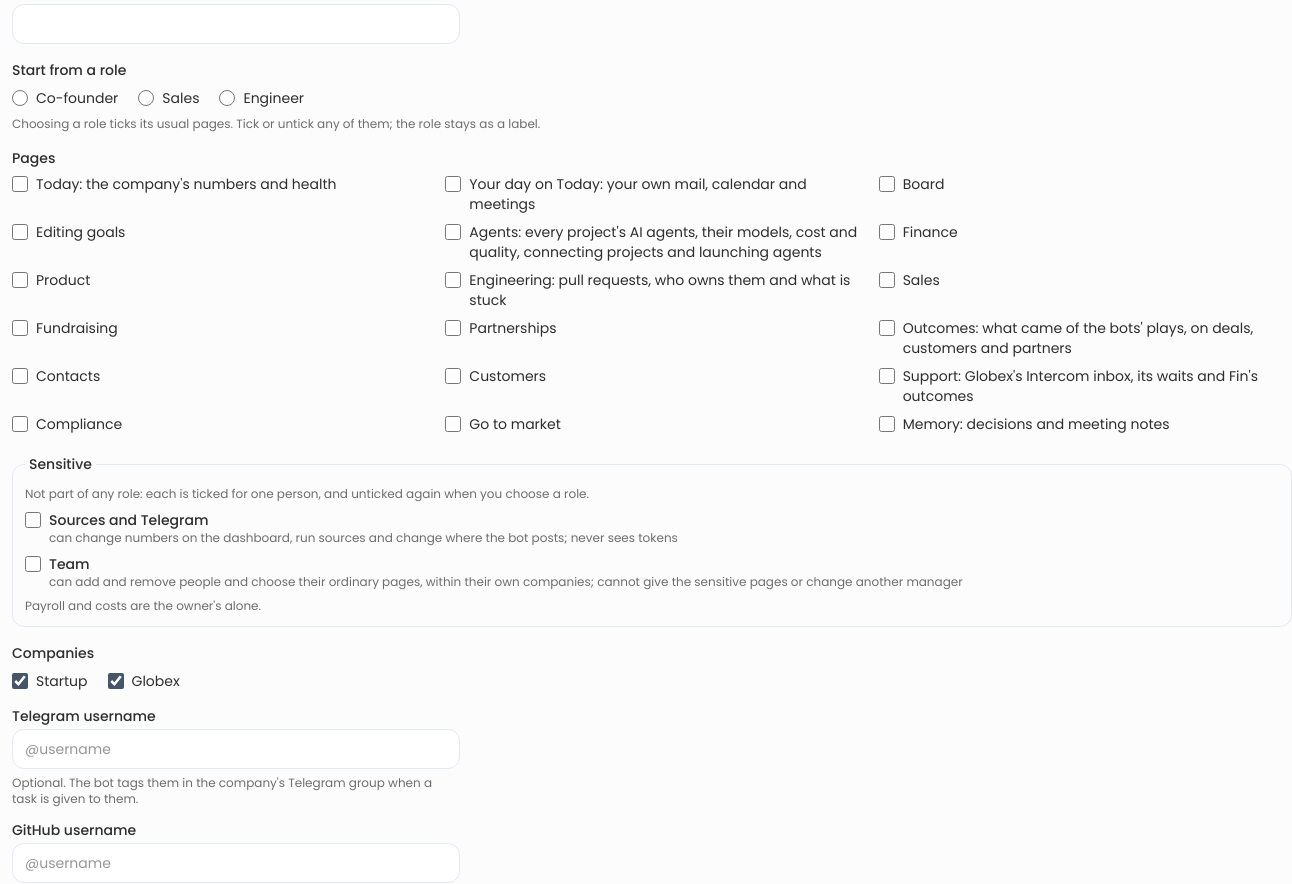
Test case: AddTeammate › sends the email, role, companies and pages, then clears and returns to the email field
Step 1. Type "new.person@example.com" into the field labelled "Google account email" → (236, 24), box [12,4,460,44]
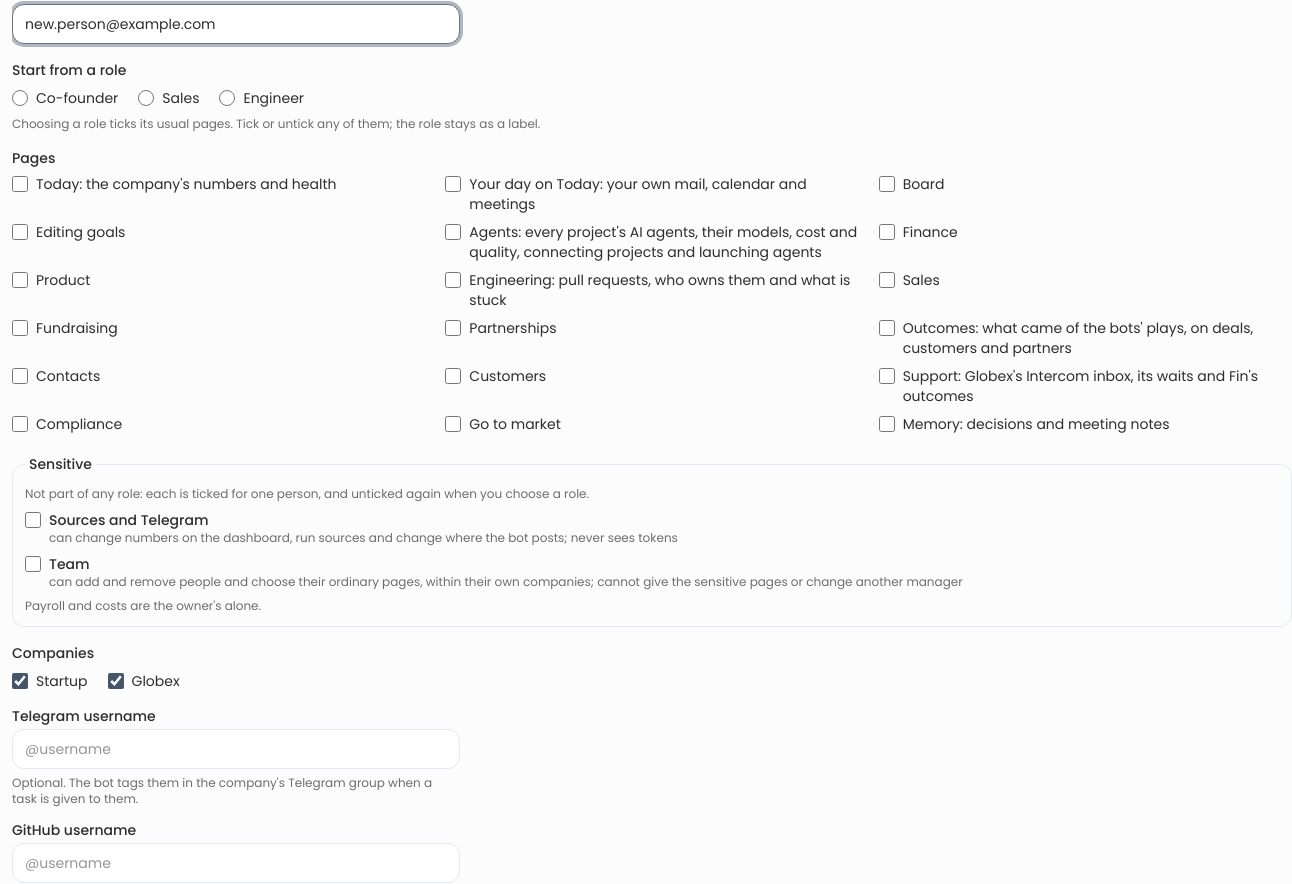
Step 2. Click the radio button labelled "Sales" → (146, 98), box [138,90,154,106]
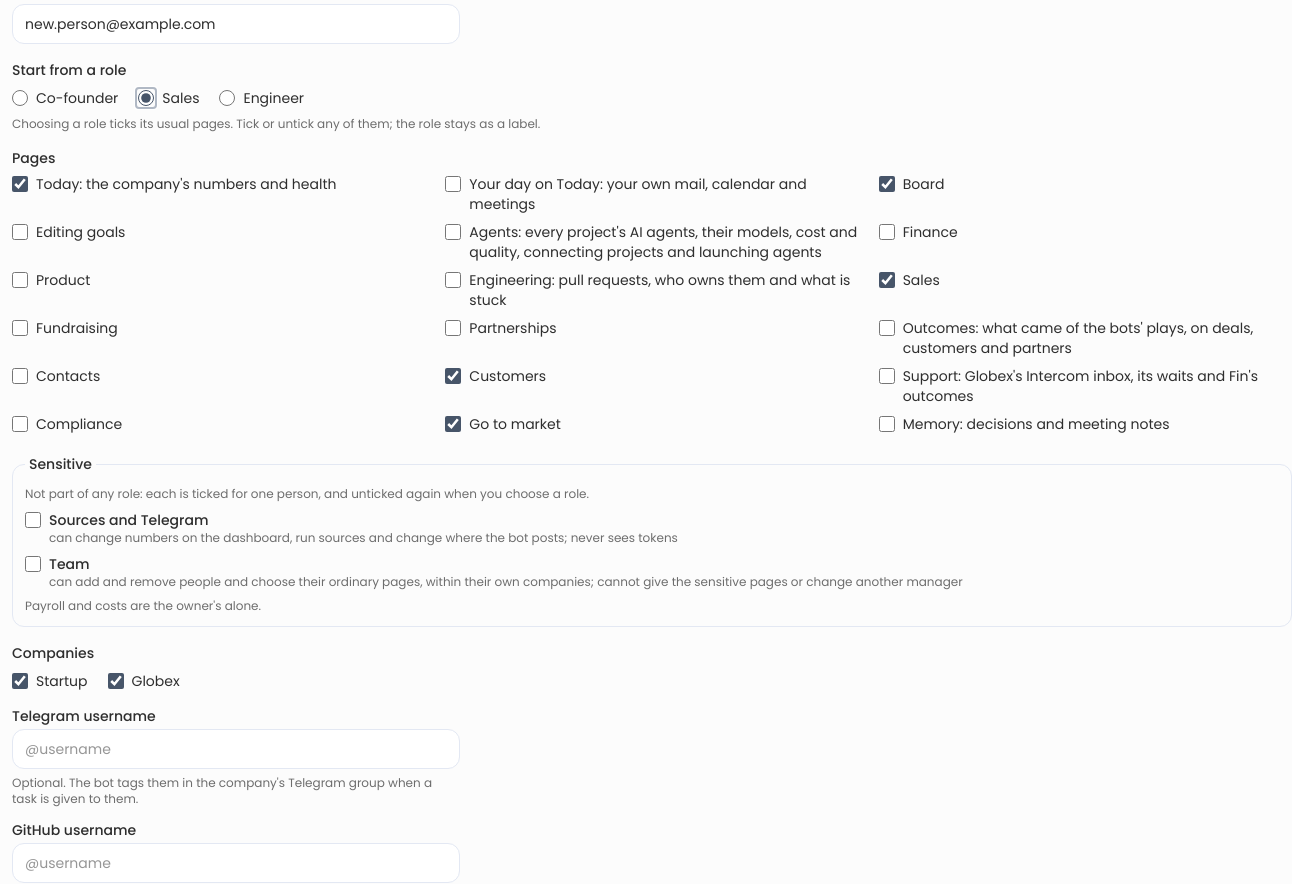
Step 3. Click the checkbox labelled "Globex" → (116, 681), box [108,673,124,689]
(page scrolled)
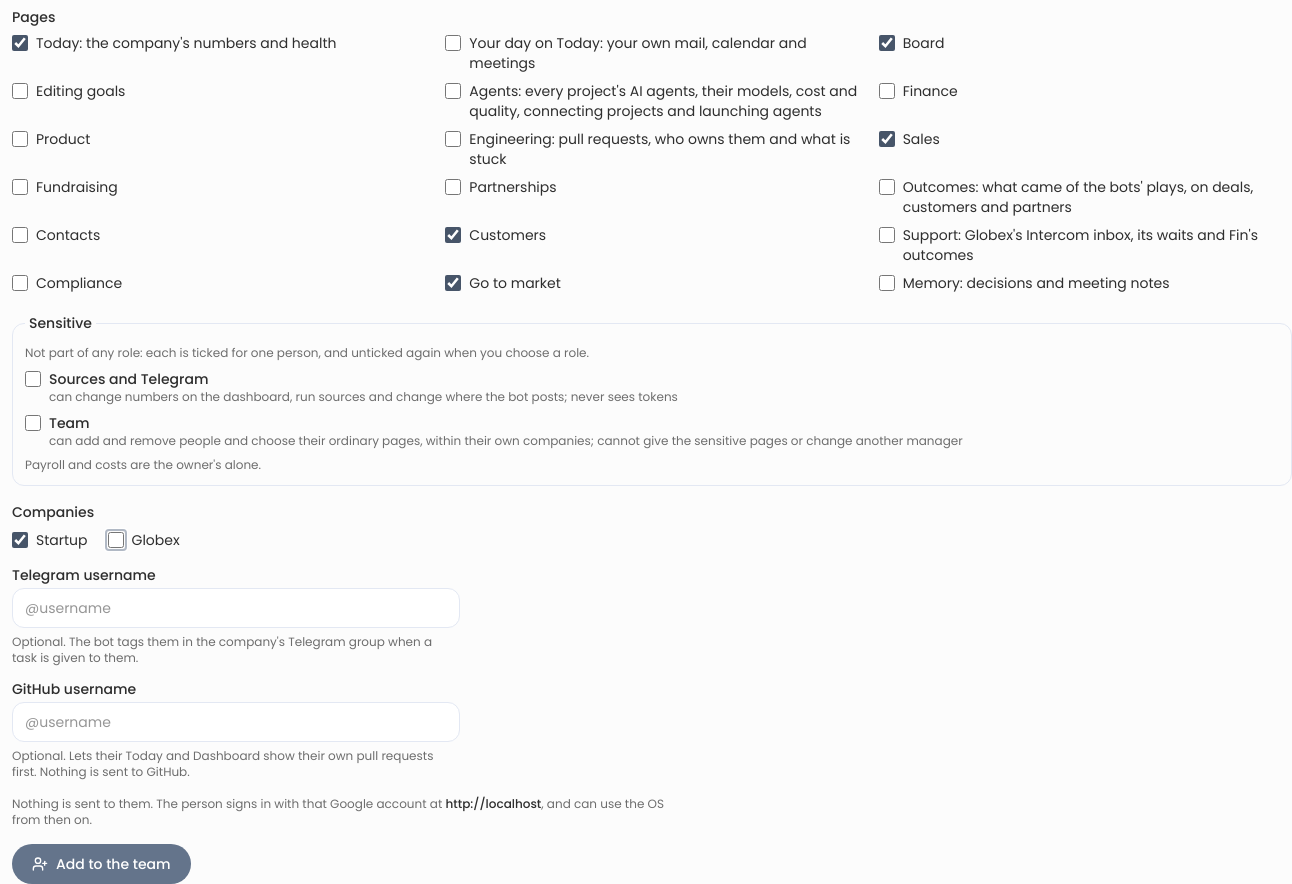
Step 4. Click the button "Add to the team" → (101, 864), box [12,844,191,883]
(page scrolled)
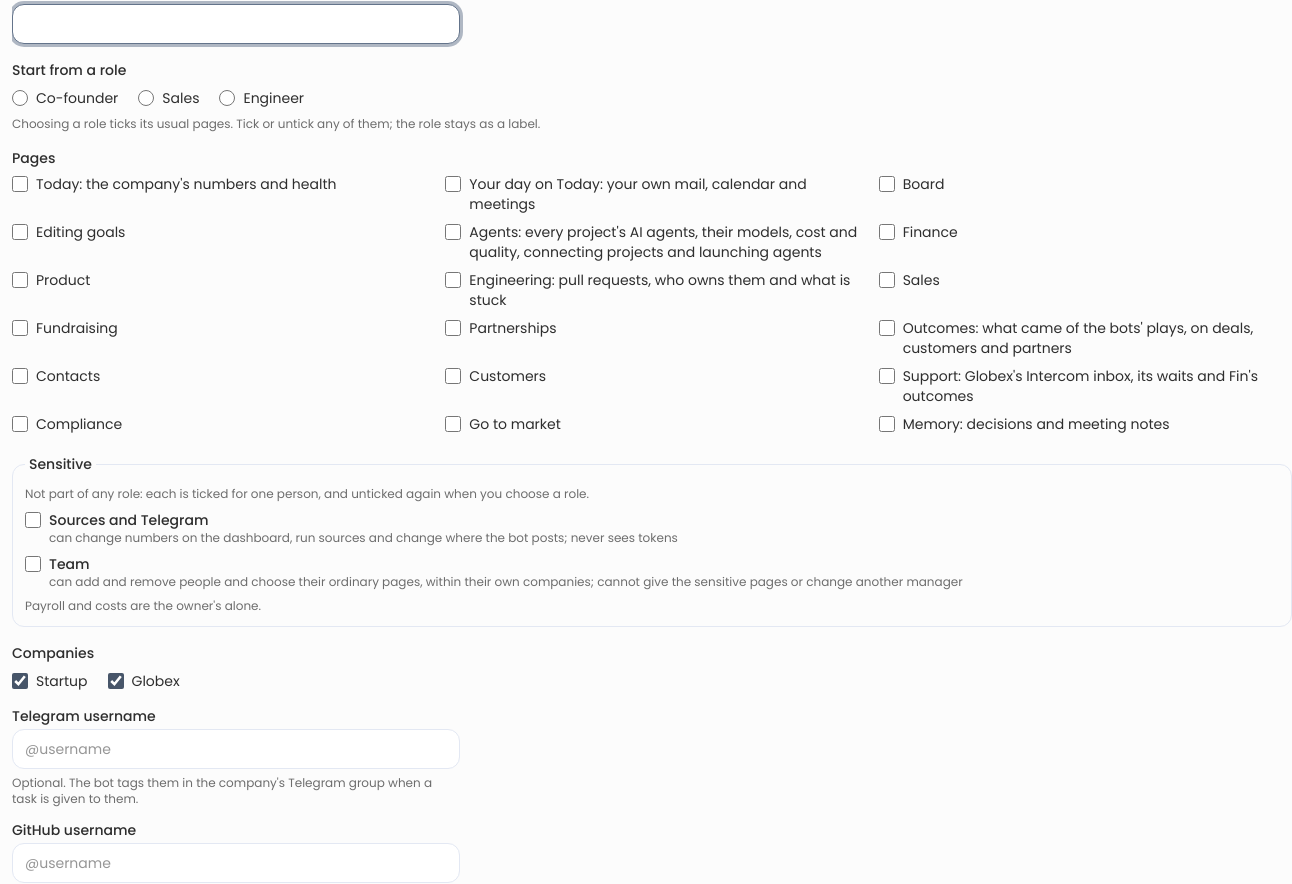
Now the radio button labelled "Sales" is not checked, box [138,90,154,106]
Now the checkbox labelled "Globex" is checked, box [108,673,124,689]
Now the field labelled "Google account email" is empty, box [12,4,460,44]
